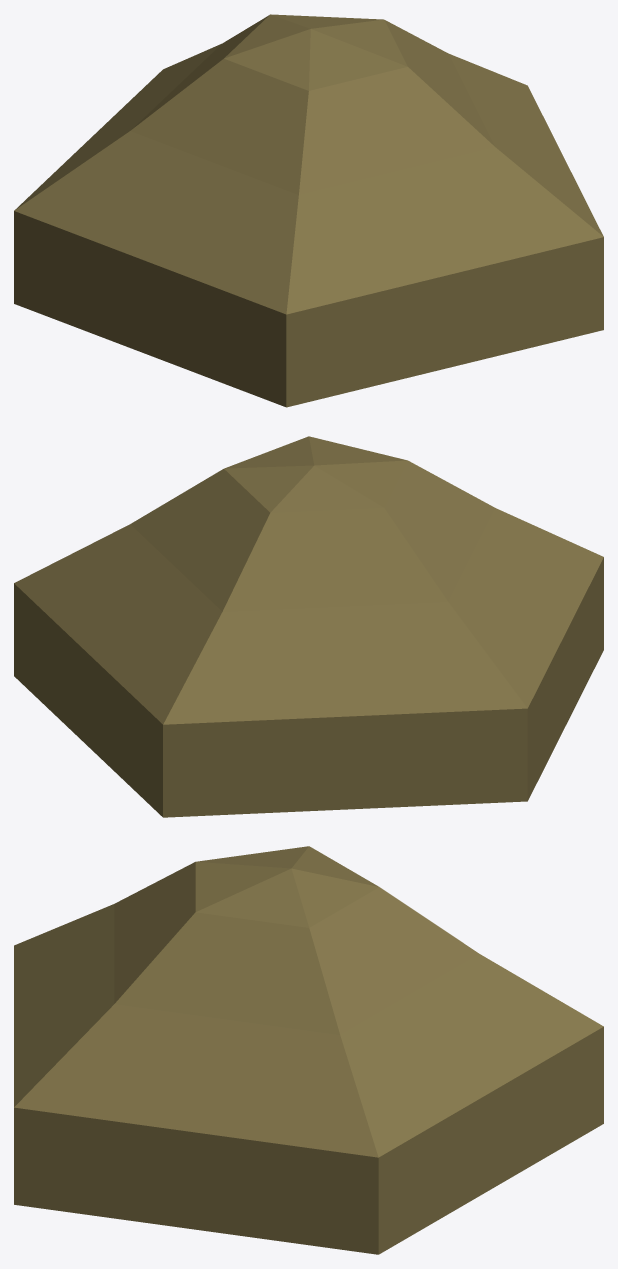
File: PotFill.dae
3 renders of one model, top to bottom at view 1: azimuth 30°, elevation 25°; view 2: azimuth 150°, elevation 25°; view 3: azimuth 270°, elevation 25°, orthographic. The views are drawn at different scales.
Parts seen in each view (by area): view 1: FilledPot; view 2: FilledPot; view 3: FilledPot.
Boxes of the visible parts, x1,y1,x2,y2 form: FilledPot: [14, 14, 603, 407]; FilledPot: [14, 436, 603, 817]; FilledPot: [14, 846, 603, 1254].
Bounding box in the file's own units: 0.9587 × 0.9117 × 0.4337.
